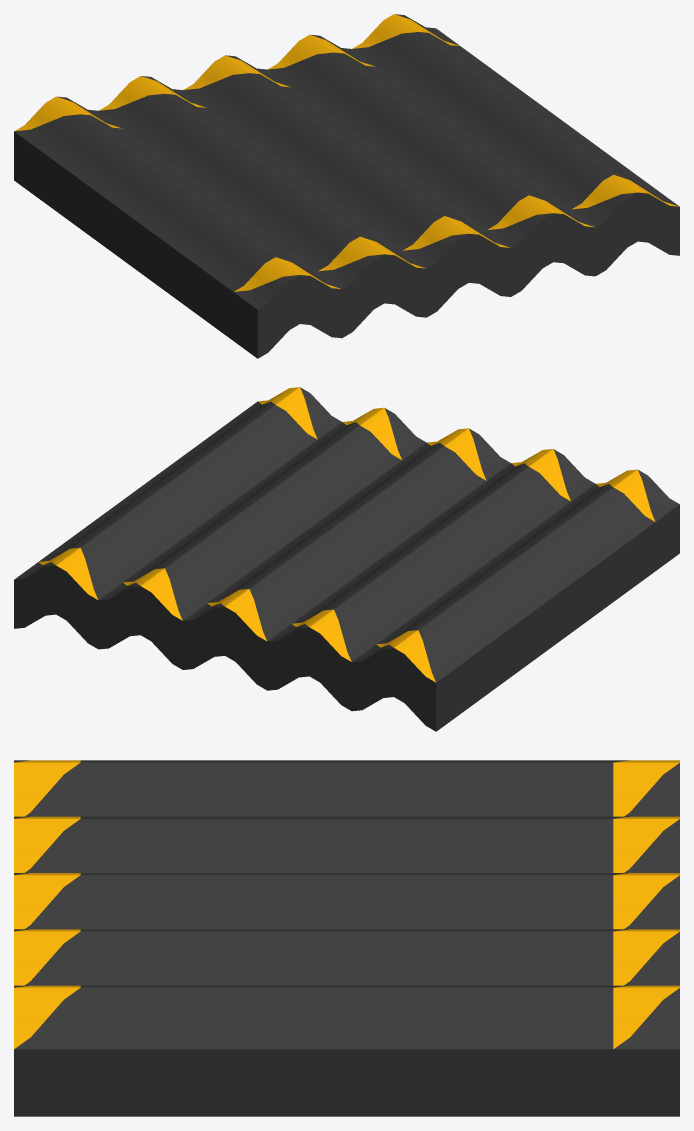
The picture shows the model from 3 angles, top to bottom: view 1: azimuth 30°, elevation 25°; view 2: azimuth 150°, elevation 25°; view 3: azimuth 270°, elevation 25°; orthographic projection. The views are drawn at different scales.
Visible parts, largest first — view 1: w2; view 2: w2; view 3: w2.
Boxes of the visible parts, x1=… form: w2: x1=14, y1=14, x2=679, y2=358; w2: x1=14, y1=387, x2=679, y2=731; w2: x1=14, y1=760, x2=679, y2=1116.
Size of the model in its own units: 9 by 1.5 by 9.
